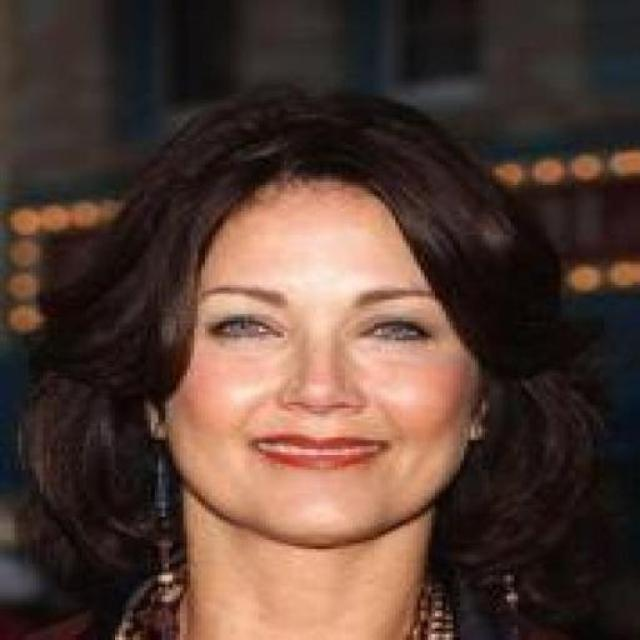bareface: (120, 102, 538, 542)
